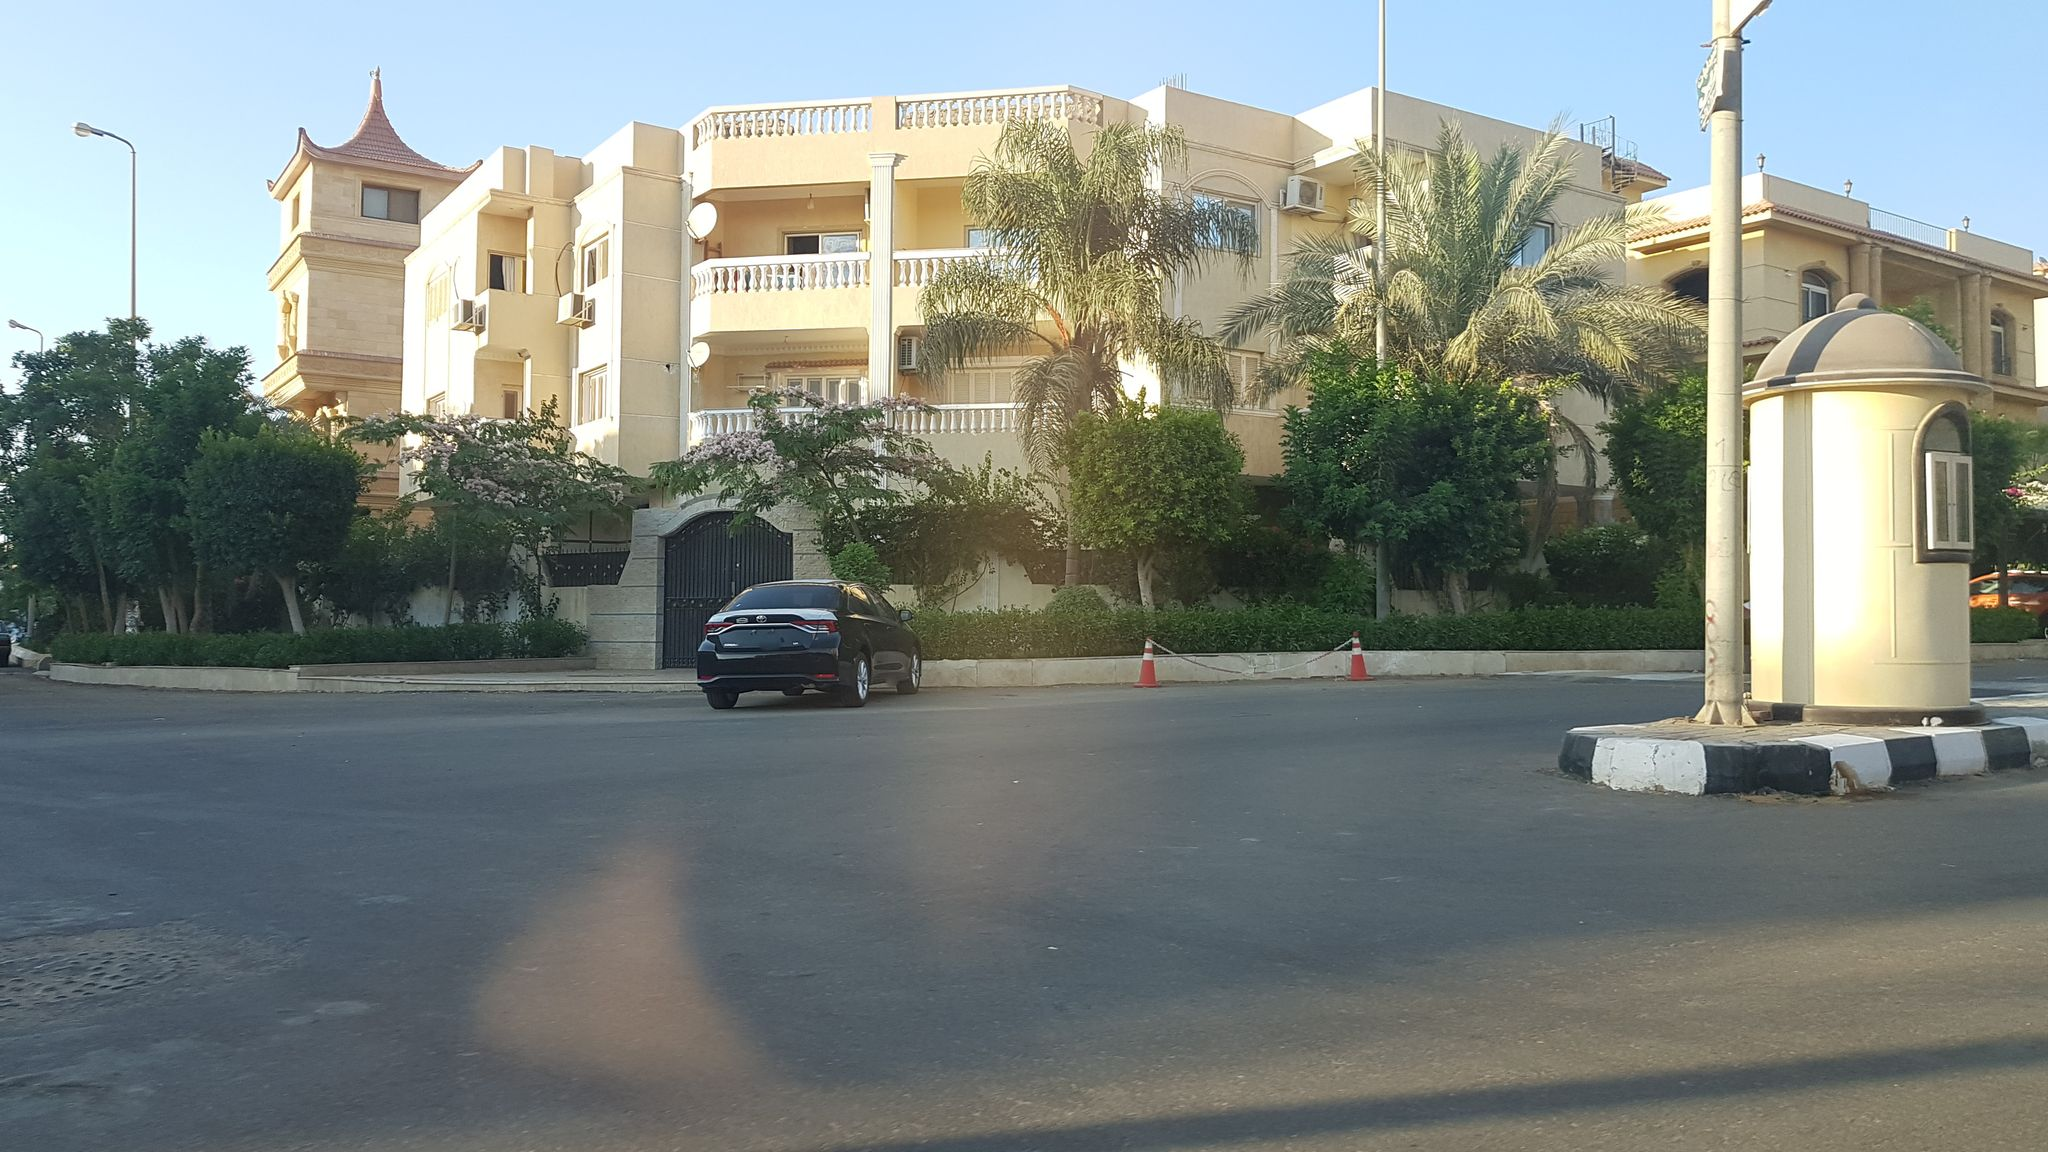car: (695, 580, 921, 705)
